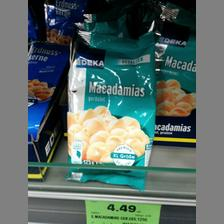Nuss: (63, 27, 156, 190)
